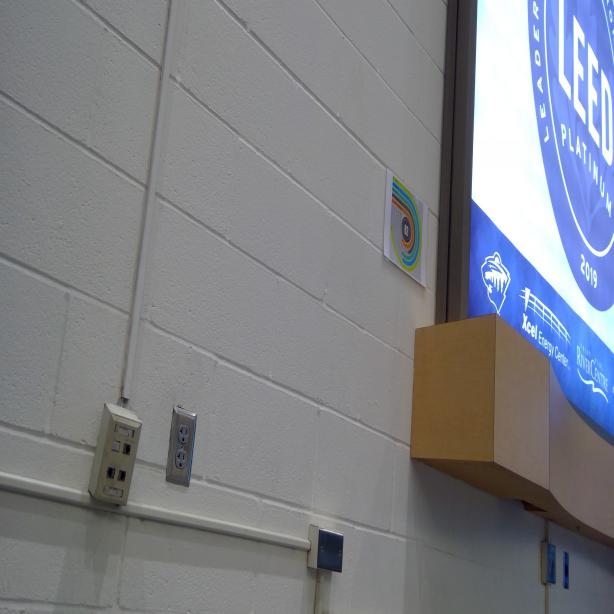typeb: (178, 423, 190, 445), (176, 452, 187, 468)
